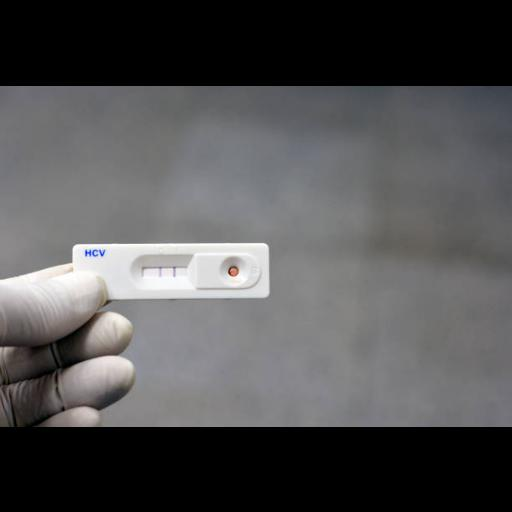Pos: (75, 244, 267, 296)
